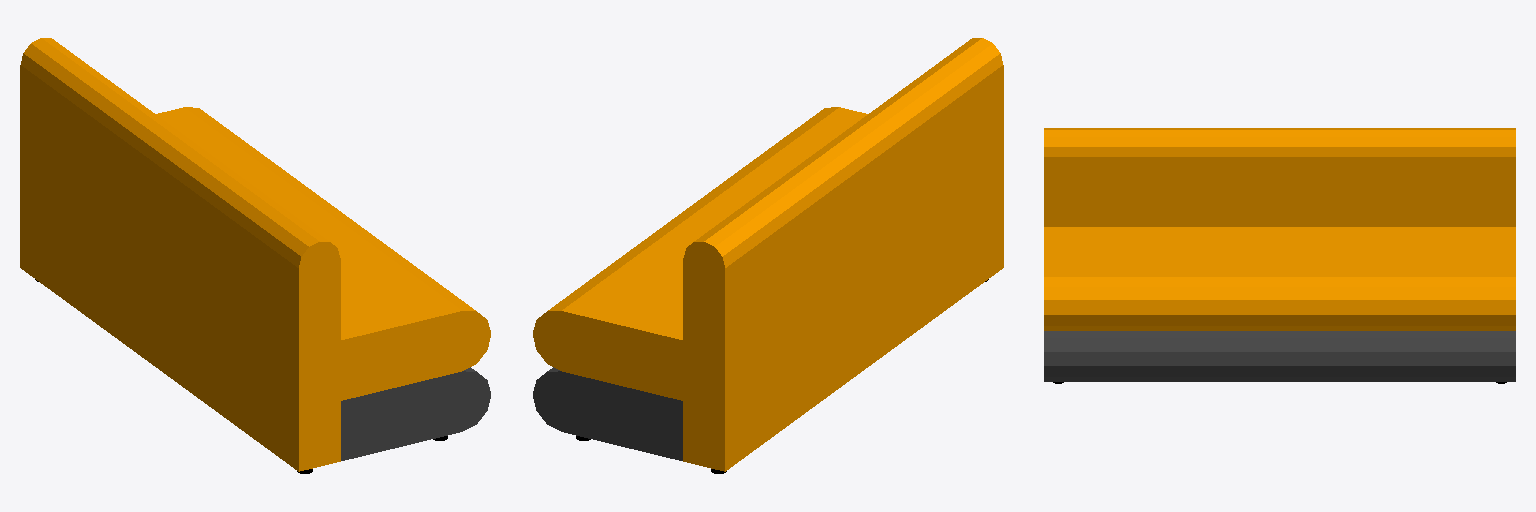
URDF robot description (coe-sofa_static):
<?xml version="1.0"?>
<robot name="coe-sofa_static"
       xmlns:xi="http://www.w3.org/2001/XInclude"
       >
  <gazebo>
    <static>true</static>
  </gazebo>
  <link name="nil_link">
    <visual>
      <origin xyz="0 0 0" rpy="0 -0 0"/>
      <geometry>
        <mesh filename="model://coe-sofa/meshes/nil_link_mesh.dae" scale="1 1 1" />
      </geometry>
    </visual>
    <collision>
      <origin xyz="0 0 0" rpy="0 -0 0"/>
      <geometry>
        <mesh filename="model://coe-sofa/meshes/nil_link_mesh.dae" scale="1 1 1" />
      </geometry>
    </collision>
    <inertial>
      <mass value="0.001" />
      <origin xyz="0 0 0" rpy="0 -0 0"/>
      <inertia ixx="1e-03" ixy="0" ixz="0" iyy="1e-03" iyz="0" izz="1e-03"/>
    </inertial>
  </link>
  <gazebo reference="nil_link">
    <mu1>0.9</mu1>
    <mu2>0.9</mu2>
  </gazebo>
</robot>

--- What the picture shows (computed from the rendered views, not written in the file) ---
3 views of the same robot in one strip: view 1: azimuth 30°, elevation 25°; view 2: azimuth 150°, elevation 25°; view 3: azimuth 270°, elevation 25° (orthographic).
Model coe-sofa_static with 1 links and 0 joints (none), rooted at nil_link, posed all joints at 0.
Visible links, largest first — view 1: nil_link; view 2: nil_link; view 3: nil_link.
Link boxes in pixels (bbox=[...]): nil_link: bbox=[20, 38, 490, 473]; nil_link: bbox=[533, 38, 1003, 473]; nil_link: bbox=[1044, 128, 1515, 383].
Bounding box of the posed robot: 0.6 × 1.5 × 0.695 m (x, y, z).
Meshes: 1 distinct files referenced, 1 mesh visuals loaded (1 Collada DAE).